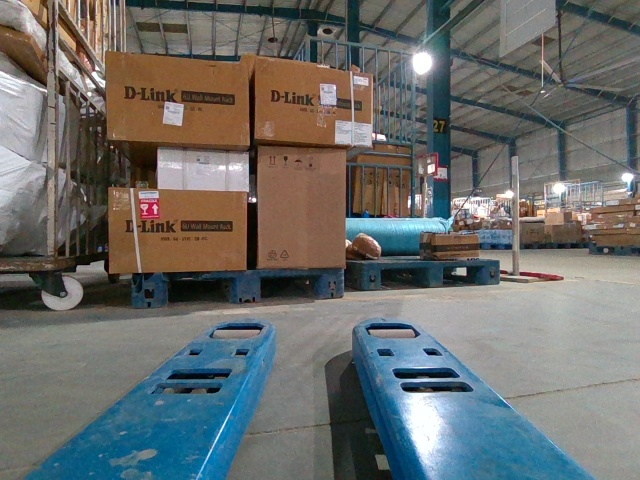block: (131, 270, 164, 310), (231, 268, 263, 304), (311, 262, 343, 295), (361, 260, 384, 289), (427, 260, 443, 285), (483, 260, 498, 281)
front: (133, 266, 344, 306)
hole pallet: (164, 274, 236, 302), (256, 273, 321, 300), (382, 266, 428, 289), (442, 266, 485, 287)
